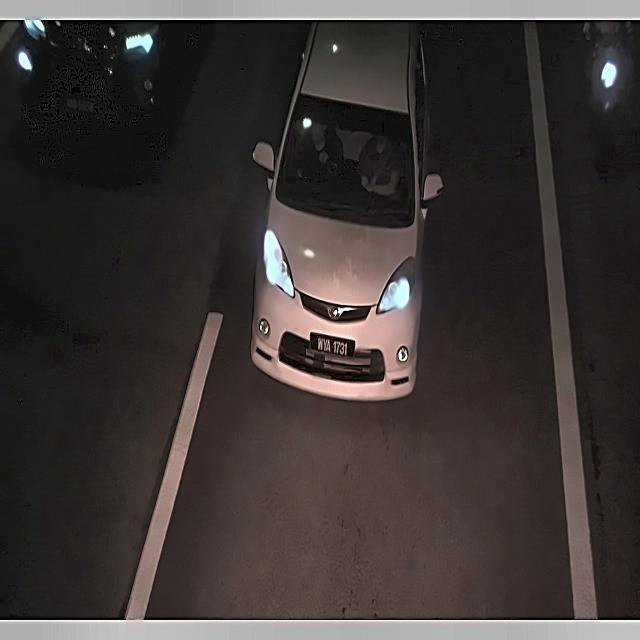car: (309, 326, 358, 365), (58, 91, 102, 119)
